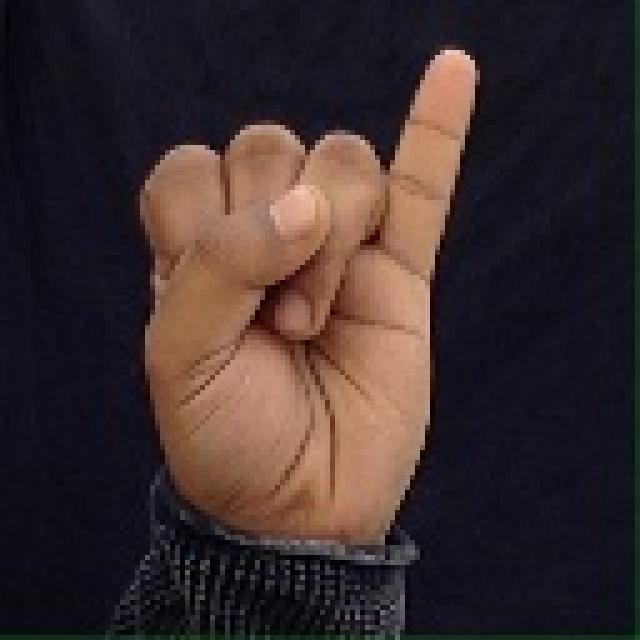Numeric-6: (141, 34, 485, 575)
